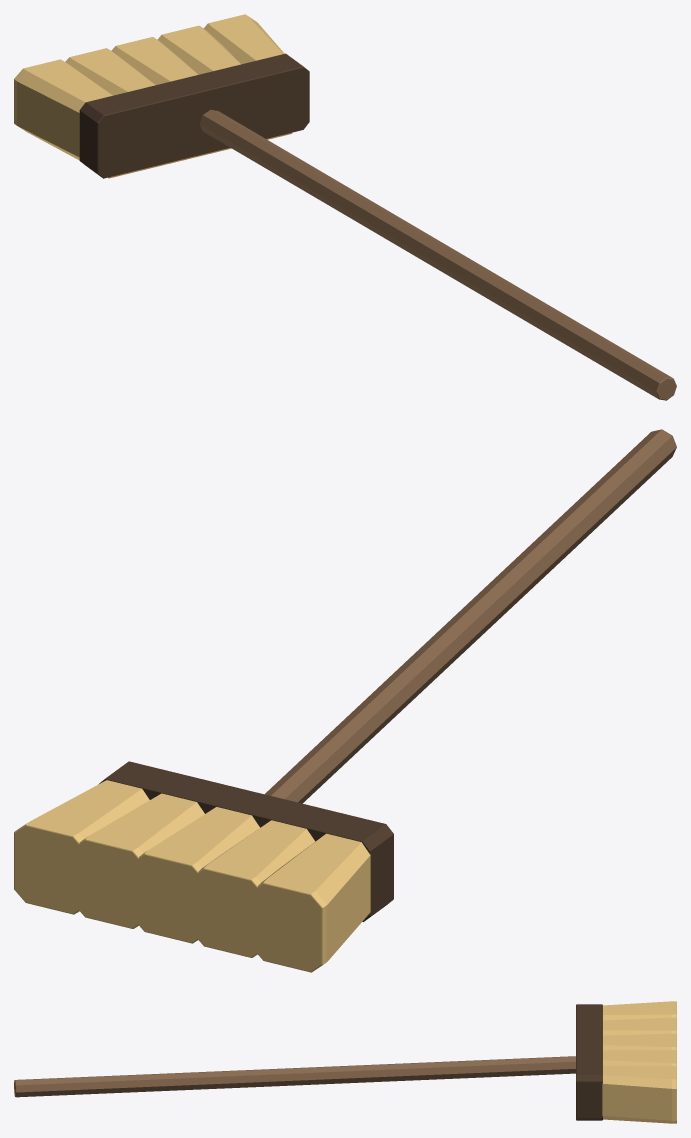
The model's file is broom.glb.
The picture shows the model from 3 angles, top to bottom: view 1: azimuth 30°, elevation 25°; view 2: azimuth 150°, elevation 25°; view 3: azimuth 270°, elevation 25°; orthographic projection. The views are drawn at different scales.
Visible parts, largest first — view 1: broom; view 2: broom; view 3: broom.
Part boxes in pixels (x1,y1,x2,y2): broom: (14,14,676,400); broom: (14,429,676,972); broom: (14,1001,676,1123).
Bounding box in the file's own units: 0.1191 × 0.0319 × 0.3937.
